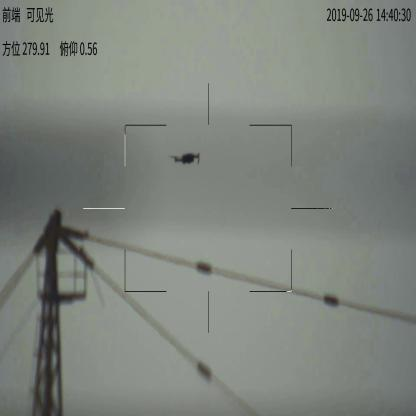uav: (168, 151, 201, 167)
